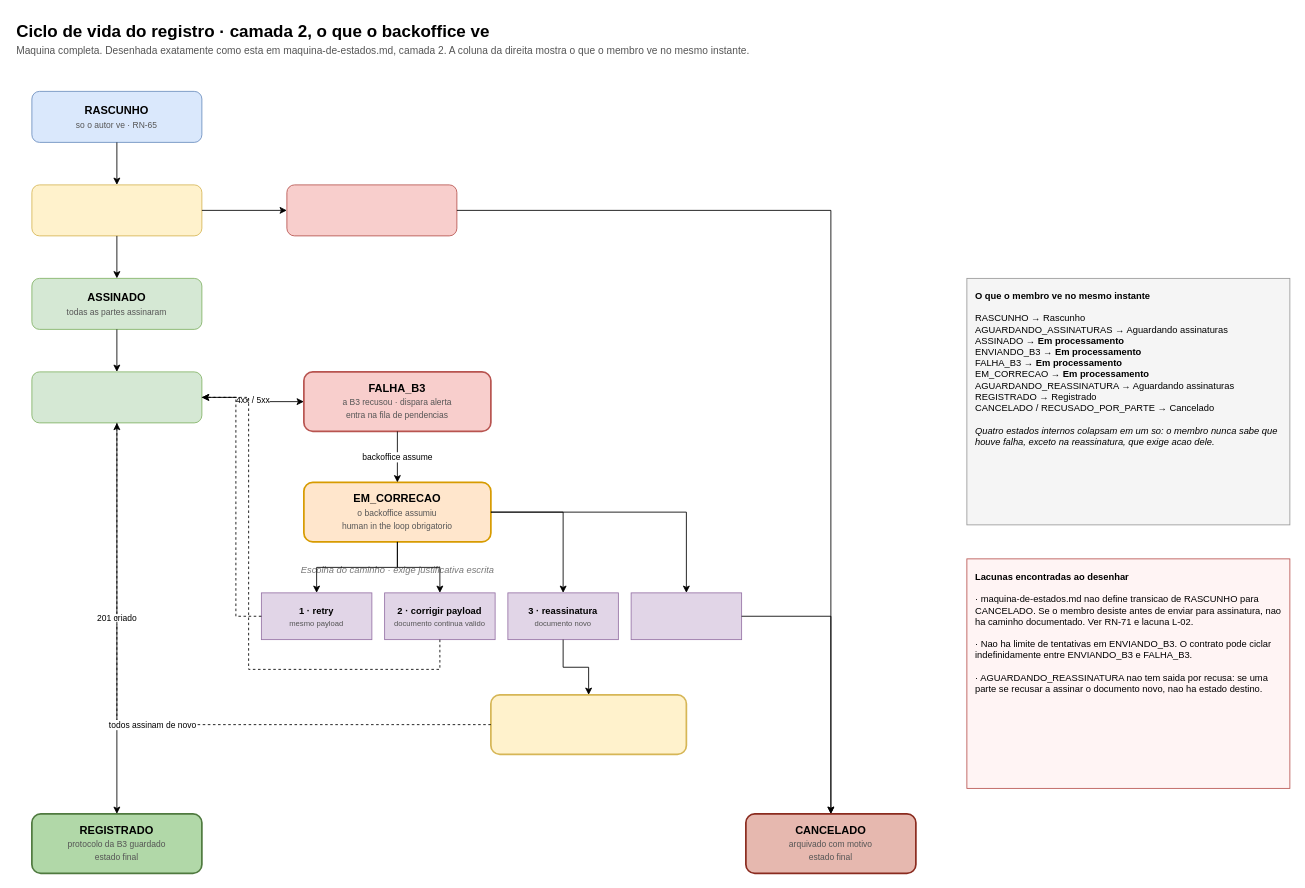
The diagram is 1305 pixels wide and 888 high, and some of its shapes have lost their labels. Here are the shapes that lost their labels. From the top down, the centre of each, then its label:
At [116,210]: "AGUARDANDO_ASSINATURAS conteudo congelado · RN-66".
At [371,210]: "RECUSADO_POR_PARTE uma parte se recusou a assinar".
At [116,397]: "ENVIANDO_B3 payload montado e enviado".
At [686,616]: "4 · cancelar motivo obrigatorio".
At [588,724]: "AGUARDANDO_REASSINATURA unica falha que o membro ve porque exige acao dele".
